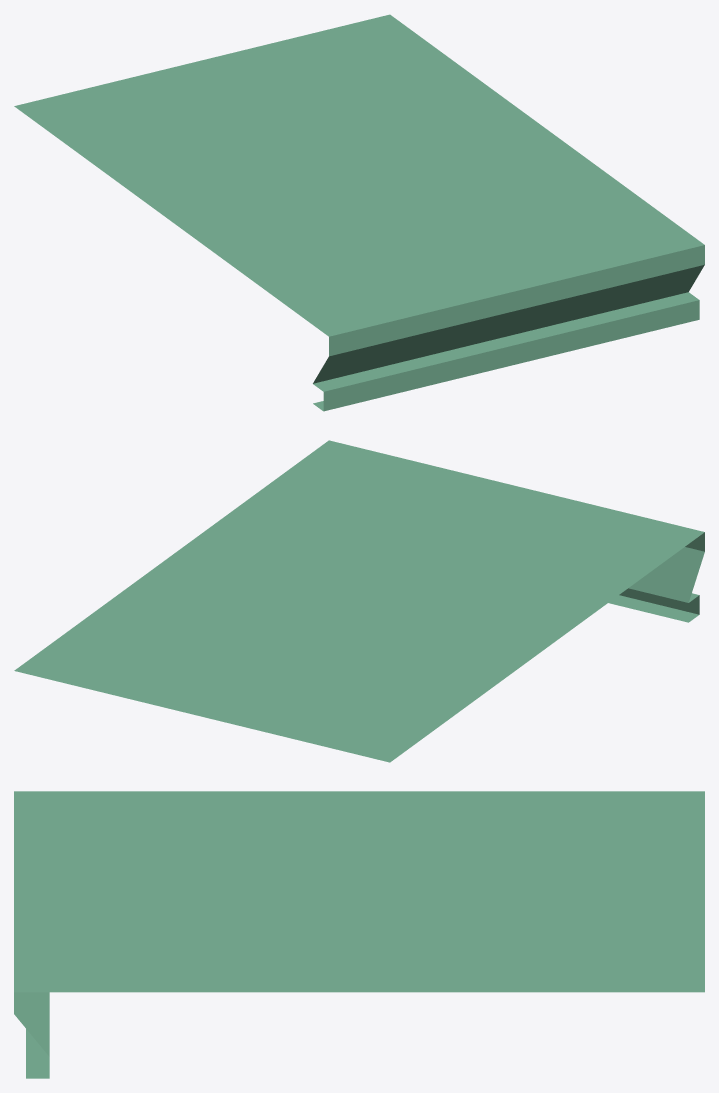
Rendered from object_B2_Top_floors_div.glb.
3 views of the same model, one above another, from view 1: azimuth 30°, elevation 25°; view 2: azimuth 150°, elevation 25°; view 3: azimuth 270°, elevation 25° (orthographic). The views are drawn at different scales.
Visible parts, largest first — view 1: B2 Top floors div; view 2: B2 Top floors div; view 3: B2 Top floors div.
Part boxes in pixels (<box>): B2 Top floors div: <box>14,14,704,411</box>; B2 Top floors div: <box>14,440,704,762</box>; B2 Top floors div: <box>14,791,704,1078</box>.
Bounding box in the file's own units: 2 × 0.4 × 2.9.
